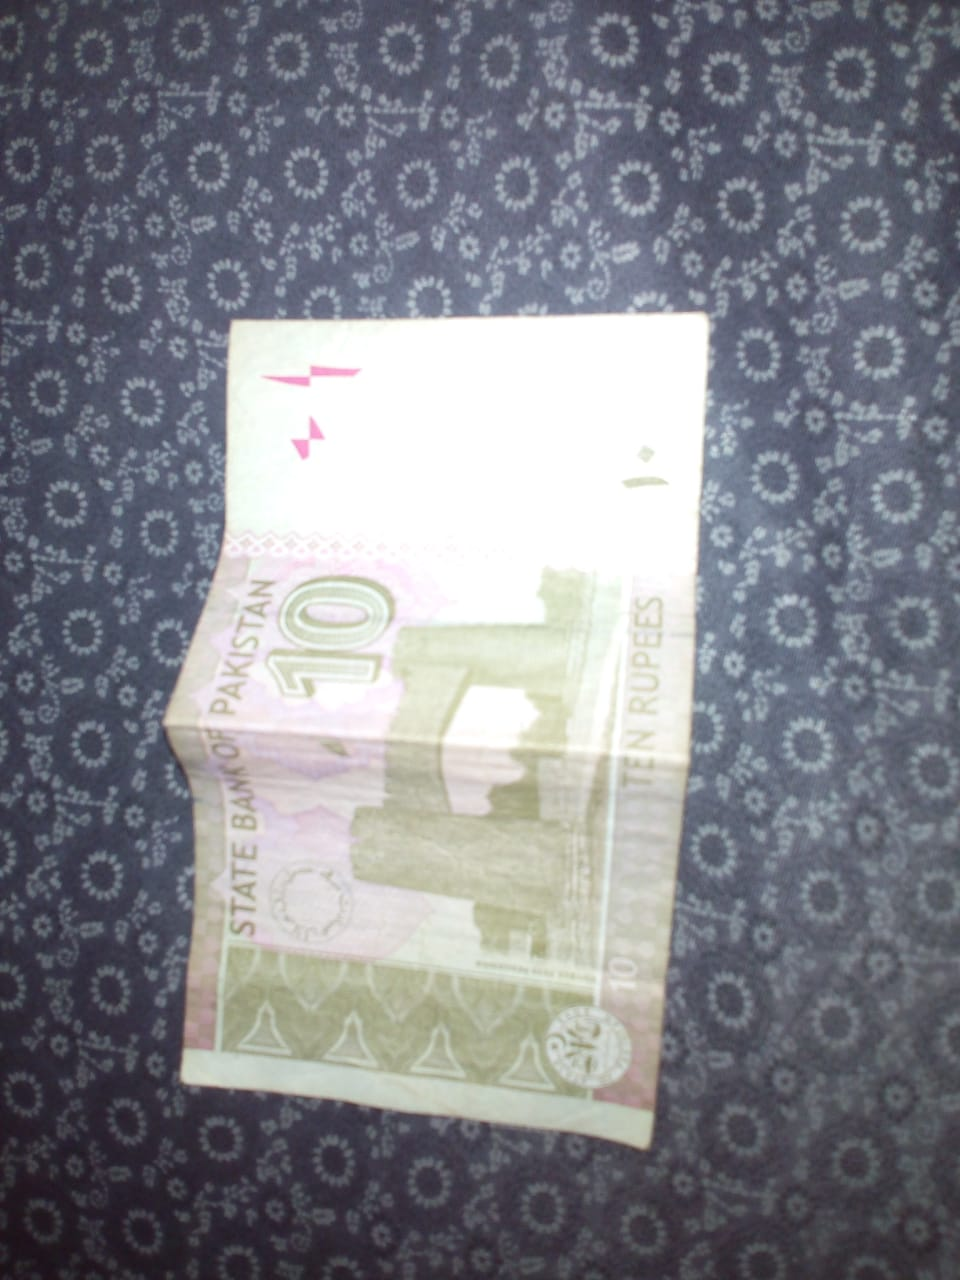10 rupee: (142, 302, 703, 1166)
